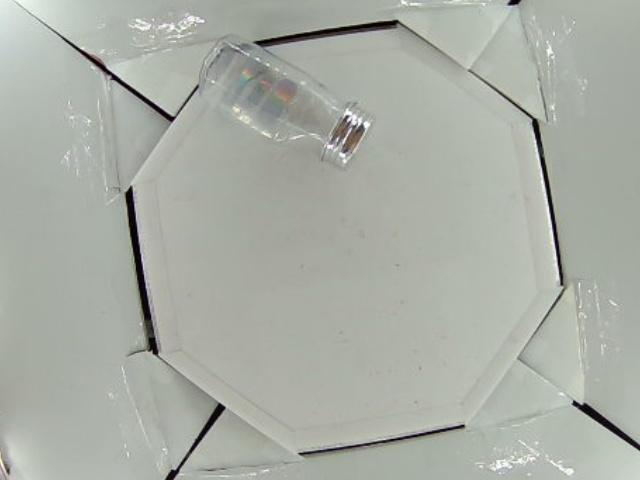Bottle: (197, 35, 378, 167)
